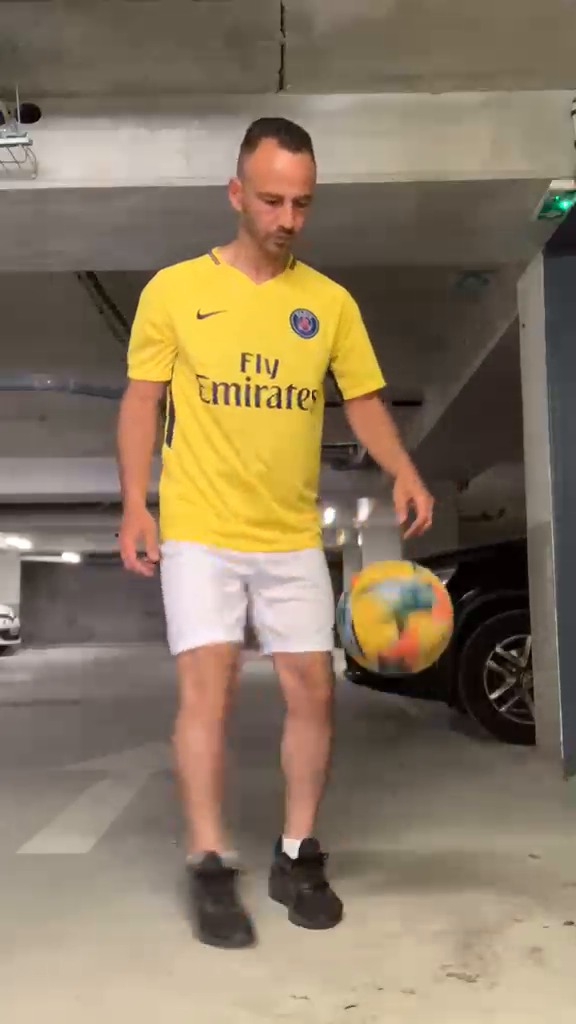ball: (335, 558, 454, 677)
